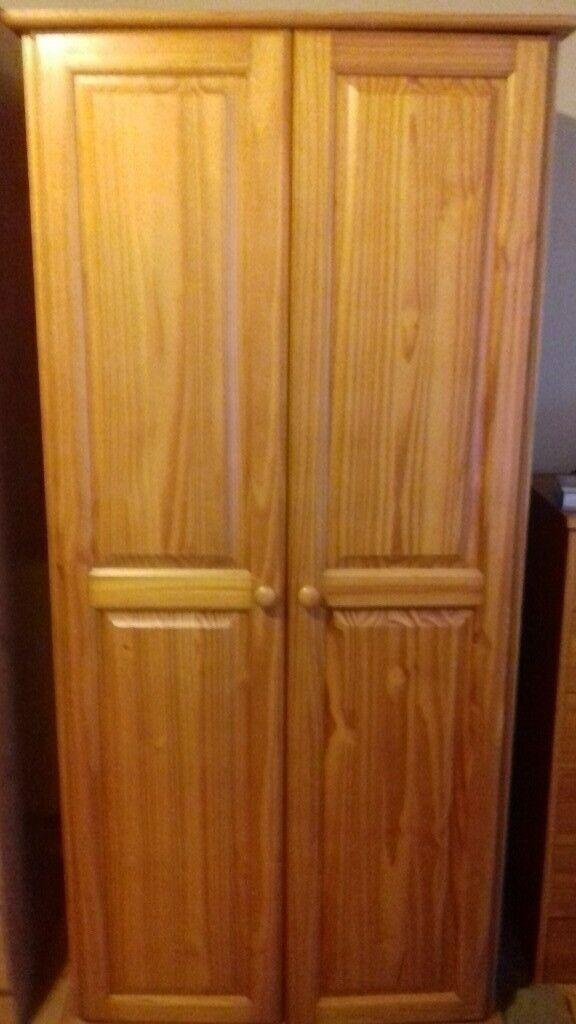Armario: (17, 13, 525, 1013)
